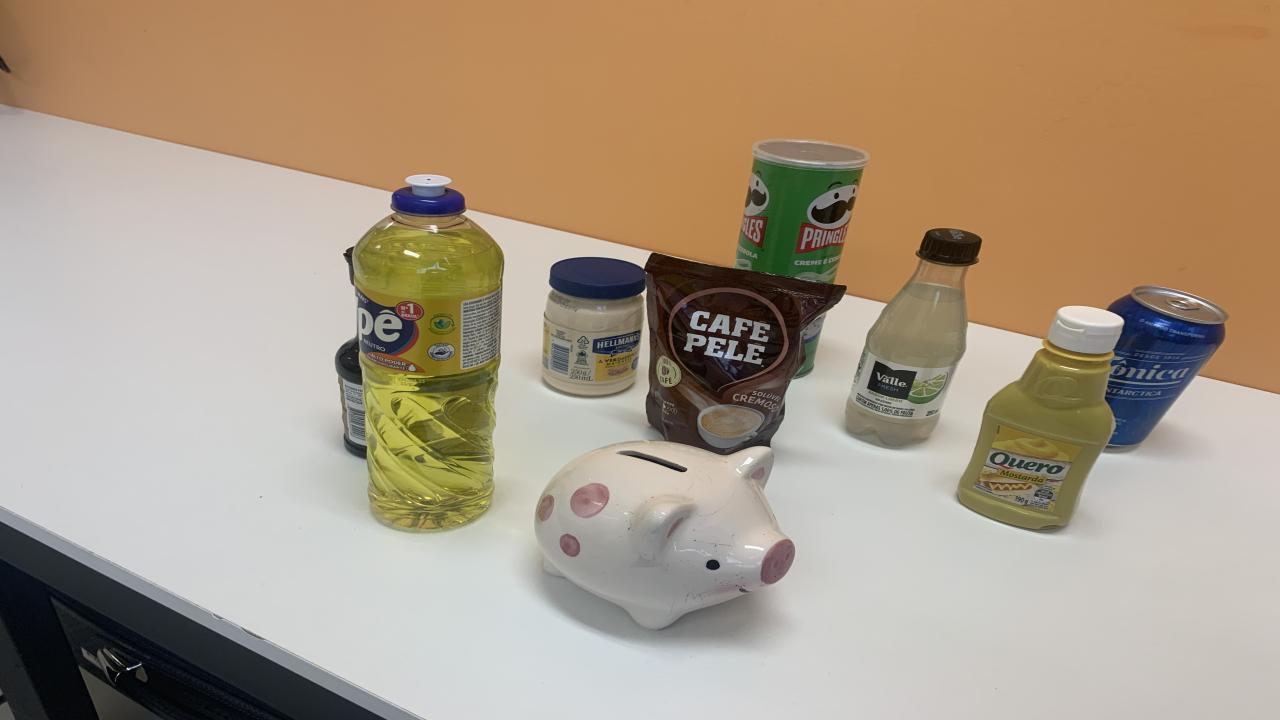Coffee-Pantry_Items: (645, 253, 845, 454)
Detergent-Cleanup_Items: (352, 174, 505, 531)
English_Sauce-Pantry_Items: (335, 338, 368, 458), (345, 248, 355, 279)
Mayonnaise-Pantry_Items: (542, 257, 645, 396)
Mustard-Pantry_Items: (958, 308, 1125, 529)
Pig_Safe-Miscellaneous: (535, 441, 795, 628)
Pringles-Snacks: (735, 139, 870, 283)
Soda-Drinks: (845, 229, 980, 446)
Tonic-Drinks: (1105, 287, 1228, 448)
